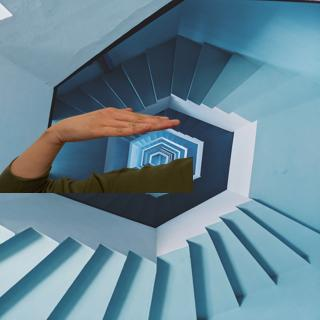WAIT: (52, 101, 184, 145)
